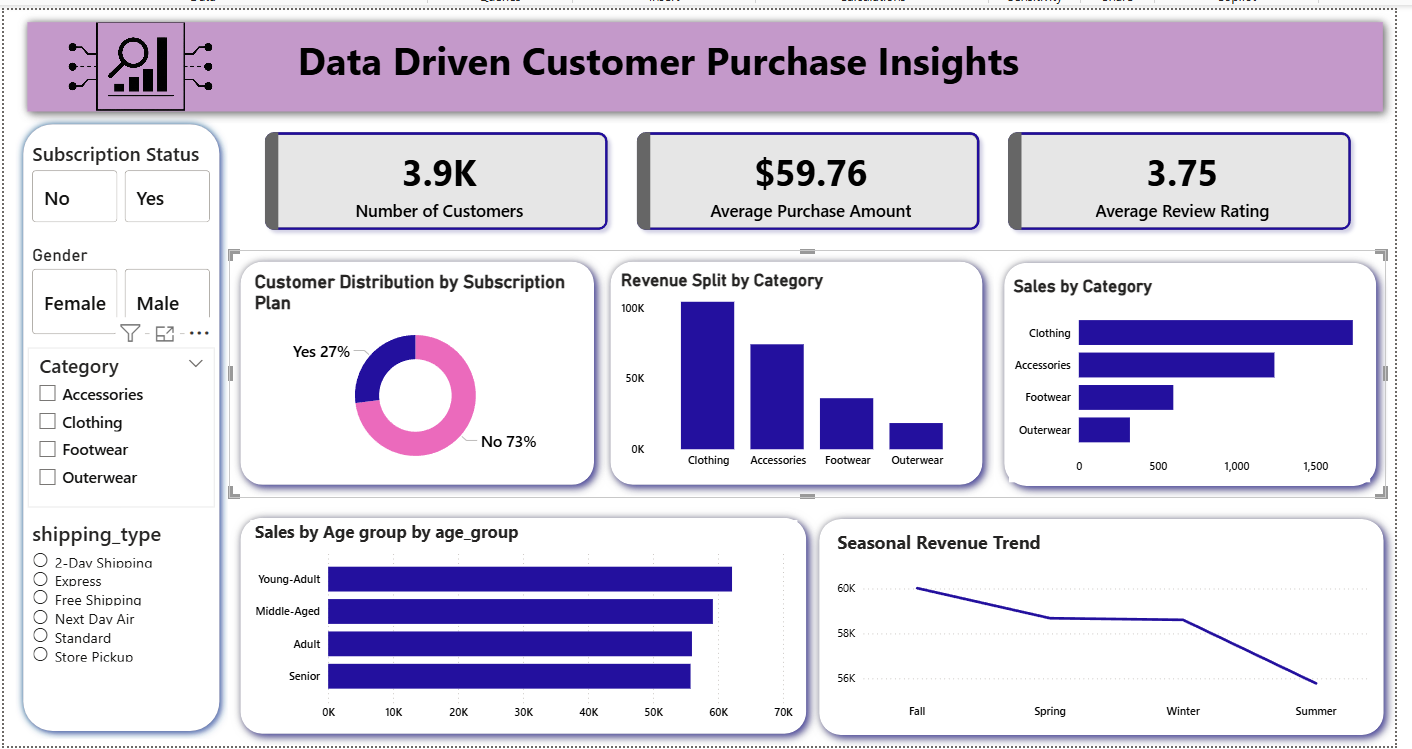

What the dashboard file says about the page in this screenshot:
{"tool":"powerbi","page":{"name":"Page 1","canvas":[1550,820],"ordinal":0},"visuals":[{"type":"cardVisual","fields":{"Data":["customer_shopping_behaviour customer.Number of Customers","customer_shopping_behaviour customer.Average Purchase Amount","customer_shopping_behaviour customer.Average Review Rating","customer_shopping_behaviour customer.Total Revenue"]},"box":[270.8,109,1270.1,168.1],"z":0},{"type":"group","id":"g1","title":"Group 2","box":[1100.8,269,440,274.4],"z":0,"group":"g5"},{"type":"shape","box":[1100.8,269,440,274.2],"z":0,"group":"g6"},{"type":"shape","box":[13.1,0,1537.2,126.5],"z":1000},{"type":"group","id":"g2","title":"Group 1","box":[662.3,267.6,440,274.4],"z":1000,"group":"g5"},{"type":"shape","box":[662.3,267.6,440,274.2],"z":1000,"group":"g2"},{"type":"barChart","title":"Sales by Category","fields":{"Category":["customer_shopping_behaviour customer.category"],"Y":["CountNonNull(customer_shopping_behaviour customer.customer_id)"]},"box":[1119,296.7,402.3,229.9],"z":1000,"group":"g6"},{"type":"textbox","box":[56.3,21.1,1346.9,85.9],"z":2000},{"type":"group","id":"g3","title":"Group 5","box":[250.1,267.6,419.5,274.4],"z":2000,"group":"g5"},{"type":"image","box":[56.3,14.1,192.8,98.5],"z":3000},{"type":"columnChart","title":"Revenue Split by Category","fields":{"Category":["customer_shopping_behaviour customer.category"],"Y":["Sum(customer_shopping_behaviour customer.purchase_amount)"]},"box":[681.9,289.8,402.3,229.9],"z":3000,"group":"g2"},{"type":"shape","box":[250,552.9,655.9,266.2],"z":4000,"group":"g4"},{"type":"shape","box":[895.6,554.4,654.4,266.2],"z":4000},{"type":"shape","box":[12.7,118.2,236.4,693.8],"z":5000},{"type":"advancedSlicerVisual","title":"Subscription Status","fields":{"Values":["customer_shopping_behaviour customer.subscription_status"]},"box":[26.7,145,208.3,97.1],"z":6000},{"type":"shape","box":[250.1,267.6,419.5,274.4],"z":6000,"group":"g3"},{"type":"advancedSlicerVisual","title":"Gender","fields":{"Values":["customer_shopping_behaviour customer.gender"]},"box":[26.7,261.8,208.3,105.6],"z":7000},{"type":"donutChart","title":"Customer Distribution by Subscription Plan","fields":{"Category":["customer_shopping_behaviour customer.subscription_status"],"Y":["CountNonNull(customer_shopping_behaviour customer.customer_id)"]},"box":[273.5,291.5,368.4,230.8],"z":8000,"group":"g3"},{"type":"slicer","title":"Category","fields":{"Values":["customer_shopping_behaviour customer.category"]},"box":[26.7,375.8,208.3,178.7],"z":8000},{"type":"listSlicer","fields":{"Values":["customer_shopping_behaviour customer.shipping_type"]},"box":[26.5,566.2,208.8,213.2],"z":9000},{"type":"group","id":"g4","title":"Group 4","box":[250,552.9,655.9,266.2],"z":10000},{"type":"lineChart","title":"Revenue Trend by Season","fields":{"Category":["customer_shopping_behaviour customer.season"],"Y":["Sum(customer_shopping_behaviour customer.purchase_amount)"]},"box":[923.5,579.4,602.9,220.6],"z":11000},{"type":"group","id":"g5","title":"Group 6","box":[250.1,267.6,1290.7,275.8],"z":12000},{"type":"barChart","title":"Sales by age_group","fields":{"Category":["customer_shopping_behaviour customer.age_group"],"Y":["Sum(customer_shopping_behaviour customer.purchase_amount)"]},"box":[273.1,568.1,609.9,232.7],"z":13001,"group":"g4"},{"type":"group","id":"g6","title":"Group 3","box":[1100.8,269,440,274.4],"z":15002,"group":"g1"}]}

Visuals, with their boxes in screenshot pixels (x1, y1, x2, y2), scaled from the page's 1550x820 canvas onto the 1412x749 screenshot:
cardVisual - customer_shopping_behaviour customer.Number of Customers x customer_shopping_behaviour customer.Average Purchase Amount: [left=247, top=100, right=1404, bottom=253]
"Group 2" group: [left=1003, top=246, right=1404, bottom=496]
shape: [left=1003, top=246, right=1404, bottom=496]
shape: [left=12, top=0, right=1411, bottom=116]
"Group 1" group: [left=603, top=244, right=1004, bottom=495]
shape: [left=603, top=244, right=1004, bottom=495]
"Sales by Category" barChart: [left=1019, top=271, right=1386, bottom=481]
textbox: [left=51, top=19, right=1278, bottom=98]
"Group 5" group: [left=228, top=244, right=610, bottom=495]
image: [left=51, top=13, right=227, bottom=103]
"Revenue Split by Category" columnChart: [left=621, top=265, right=988, bottom=475]
shape: [left=228, top=505, right=825, bottom=748]
shape: [left=816, top=506, right=1411, bottom=748]
shape: [left=12, top=108, right=227, bottom=742]
"Subscription Status" advancedSlicerVisual: [left=24, top=132, right=214, bottom=221]
shape: [left=228, top=244, right=610, bottom=495]
"Gender" advancedSlicerVisual: [left=24, top=239, right=214, bottom=336]
"Customer Distribution by Subscription Plan" donutChart: [left=249, top=266, right=585, bottom=477]
"Category" slicer: [left=24, top=343, right=214, bottom=506]
listSlicer - customer_shopping_behaviour customer.shipping_type: [left=24, top=517, right=214, bottom=712]
"Group 4" group: [left=228, top=505, right=825, bottom=748]
"Revenue Trend by Season" lineChart: [left=841, top=529, right=1391, bottom=731]
"Group 6" group: [left=228, top=244, right=1404, bottom=496]
"Sales by age_group" barChart: [left=249, top=519, right=804, bottom=731]
"Group 3" group: [left=1003, top=246, right=1404, bottom=496]
